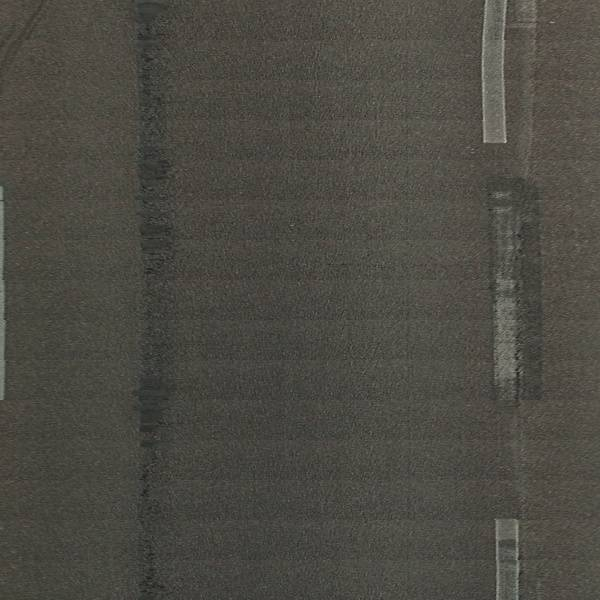road_damage: (132, 113, 177, 307), (136, 479, 175, 600), (132, 372, 177, 456)
